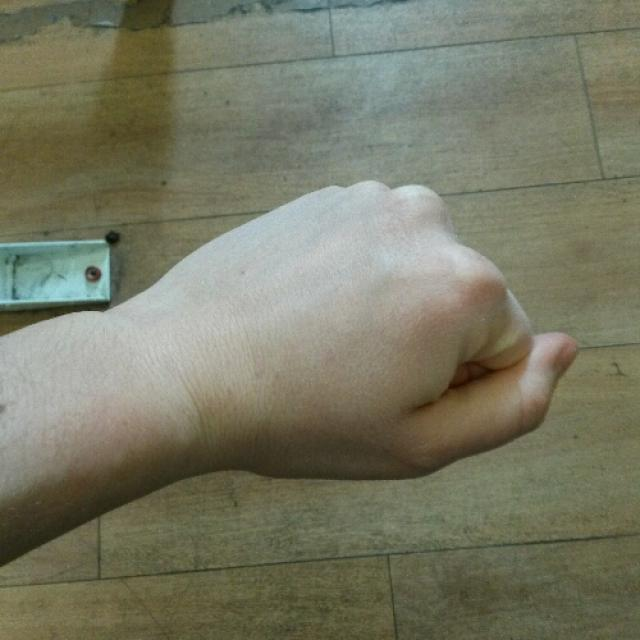rock: (142, 178, 582, 476)
